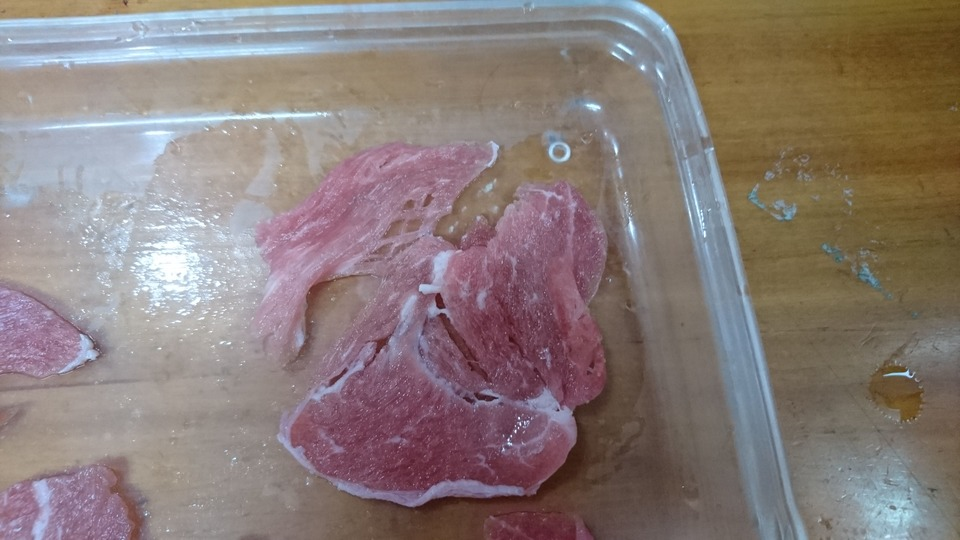restructured meat: (232, 158, 630, 508), (1, 272, 145, 537)
